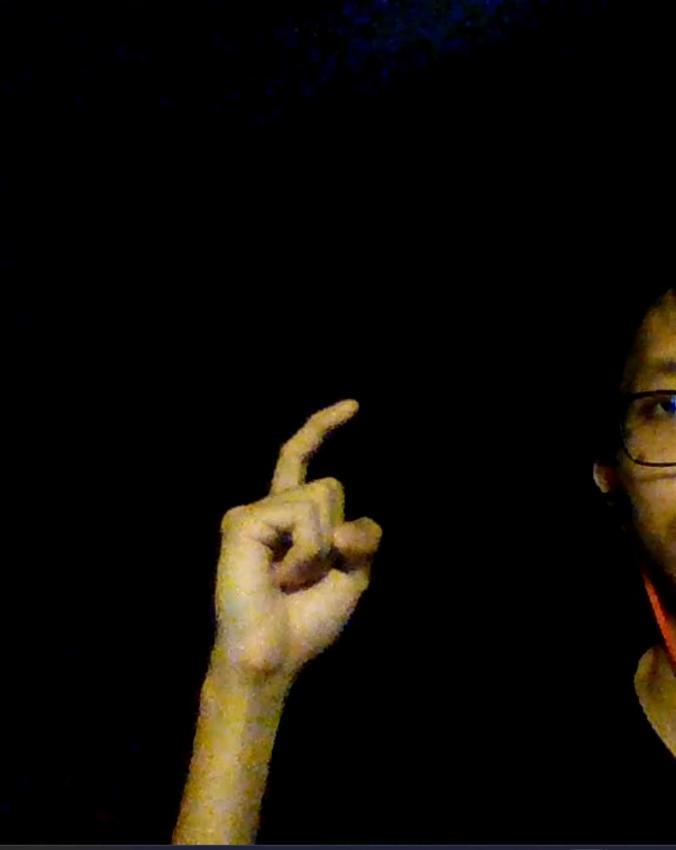x: (212, 396, 389, 671)
